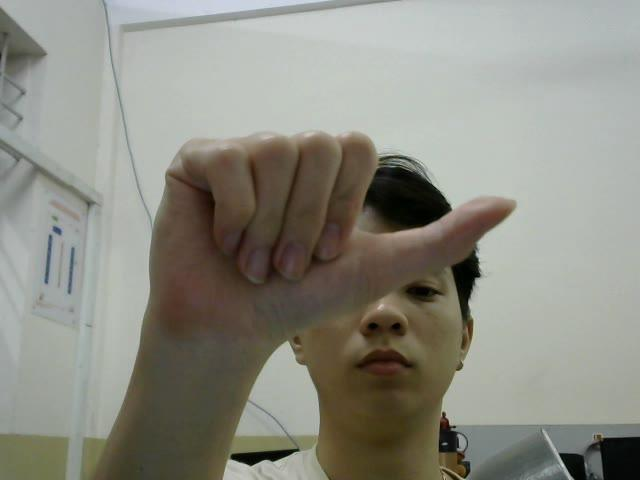A: (146, 129, 517, 325)
